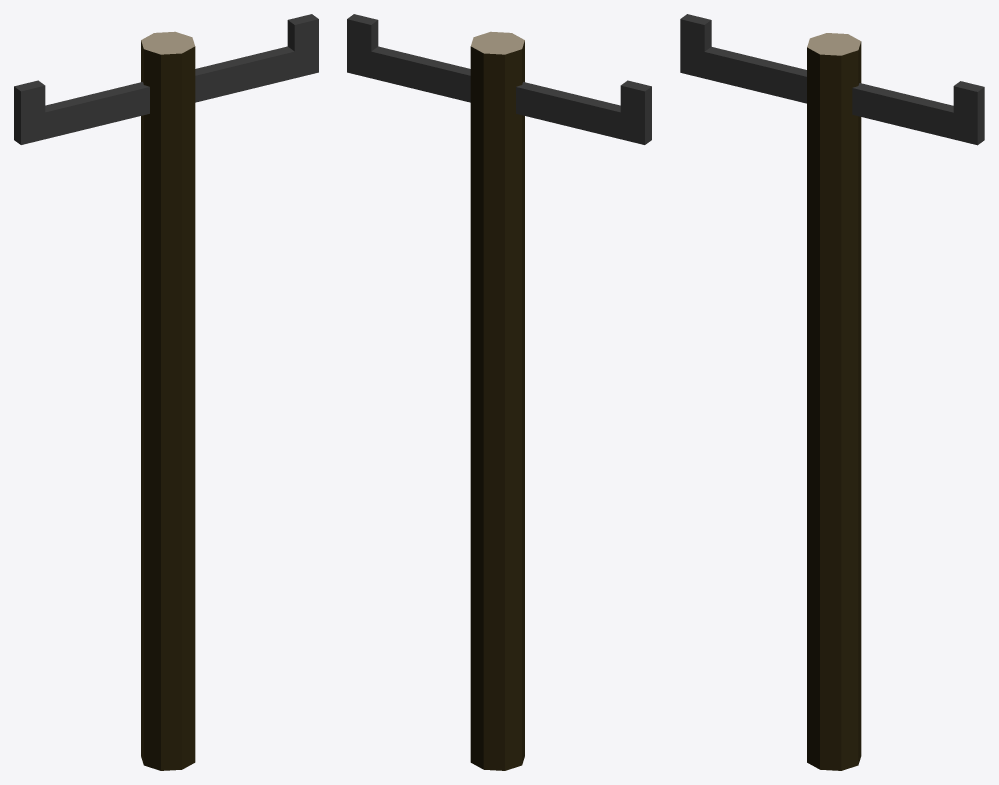
The model's file is WoodenPost.fbx.
3 renders of one model, left to right at view 1: azimuth 30°, elevation 25°; view 2: azimuth 150°, elevation 25°; view 3: azimuth 330°, elevation 25°, orthographic.
Visible parts, largest first — view 1: pCylinder2; view 2: pCylinder2; view 3: pCylinder2.
Boxes of the visible parts, left/top/right/bottom form: pCylinder2: left=14, top=14, right=318, bottom=770; pCylinder2: left=347, top=14, right=651, bottom=770; pCylinder2: left=680, top=14, right=984, bottom=770.
Size of the model in its own units: 353 by 810 by 57.5.
